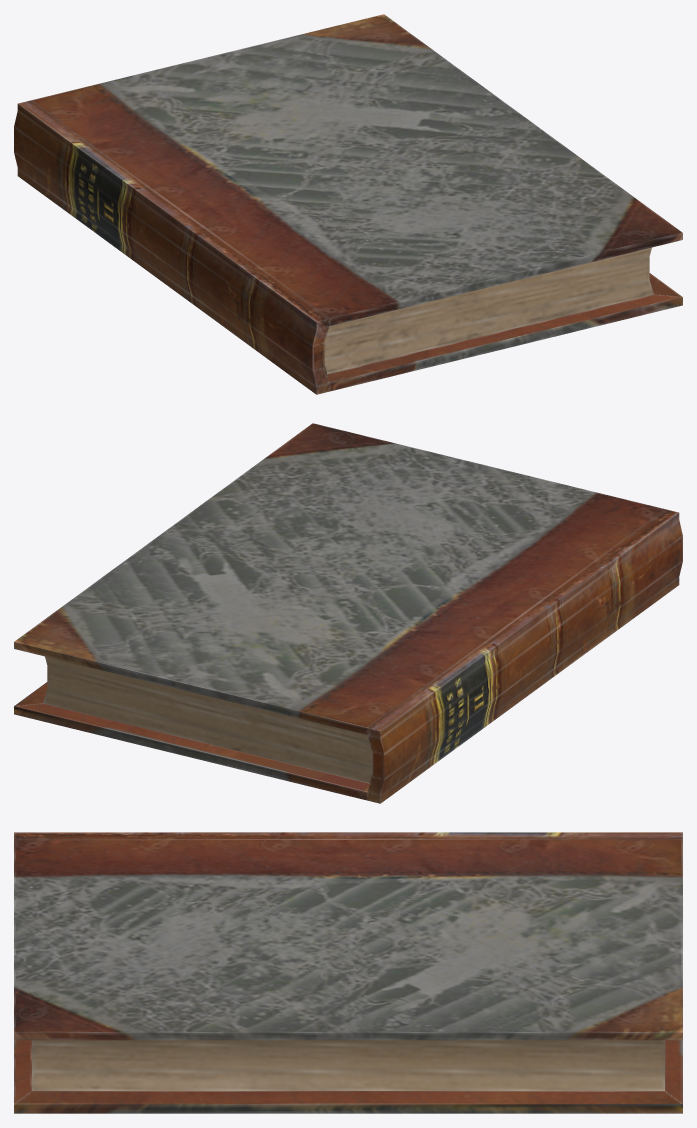
The model's file is Book_unity.fbx.
The picture shows the model from 3 angles, top to bottom: view 1: azimuth 30°, elevation 25°; view 2: azimuth 150°, elevation 25°; view 3: azimuth 270°, elevation 25°; orthographic projection. The views are drawn at different scales.
Parts seen in each view (by area): view 1: pCube1; view 2: pCube1; view 3: pCube1.
Part boxes in pixels (x1=…): pCube1: x1=14, y1=14, x2=682, y2=394; pCube1: x1=14, y1=423, x2=682, y2=803; pCube1: x1=14, y1=832, x2=682, y2=1113.
Bounding box in the file's own units: 5.34 × 1 × 7.47.
Materials: 1 (1 with a texture image).
